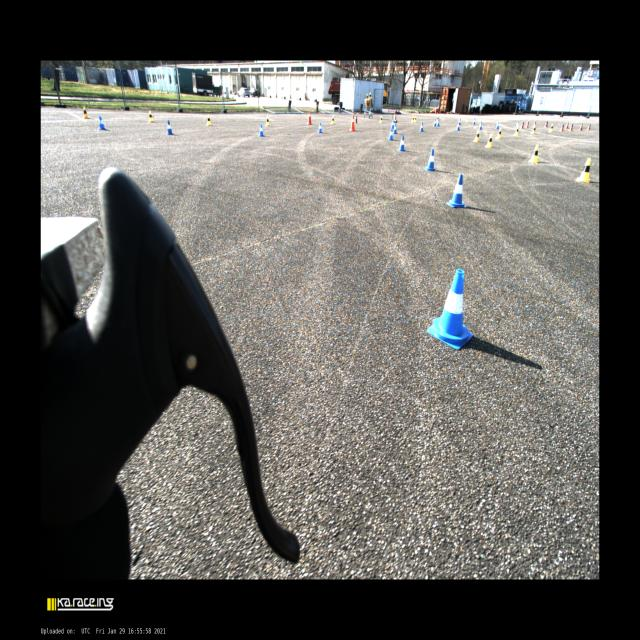blue_cone: (427, 269, 473, 349), (446, 174, 466, 208), (424, 149, 436, 171), (397, 136, 406, 152), (99, 115, 107, 130), (166, 120, 174, 135), (258, 122, 265, 136), (388, 128, 394, 140), (393, 123, 398, 134), (419, 122, 424, 132), (494, 121, 500, 129), (318, 122, 322, 133), (514, 121, 519, 129), (390, 120, 394, 128), (456, 122, 460, 130), (479, 121, 482, 130), (437, 119, 440, 126), (472, 118, 475, 124), (434, 119, 436, 127), (459, 118, 461, 125)
large_orange_cone: (349, 113, 357, 131), (307, 110, 312, 125)
orange_cone: (586, 123, 591, 131), (560, 123, 564, 132), (520, 121, 524, 129), (525, 120, 529, 128), (532, 120, 536, 128), (544, 120, 548, 128), (565, 121, 569, 129), (569, 123, 573, 131), (579, 123, 583, 131)
yellow_cone: (576, 158, 591, 182), (528, 145, 538, 162), (83, 106, 92, 119), (485, 134, 492, 148), (473, 129, 479, 142), (206, 114, 212, 126), (265, 115, 271, 126), (495, 128, 501, 139), (149, 110, 154, 122), (530, 125, 536, 134), (330, 114, 335, 124), (514, 126, 518, 136), (548, 124, 553, 132), (379, 115, 382, 124), (411, 115, 414, 123), (369, 92, 372, 99), (436, 115, 438, 122), (414, 116, 416, 122), (366, 94, 368, 100)
